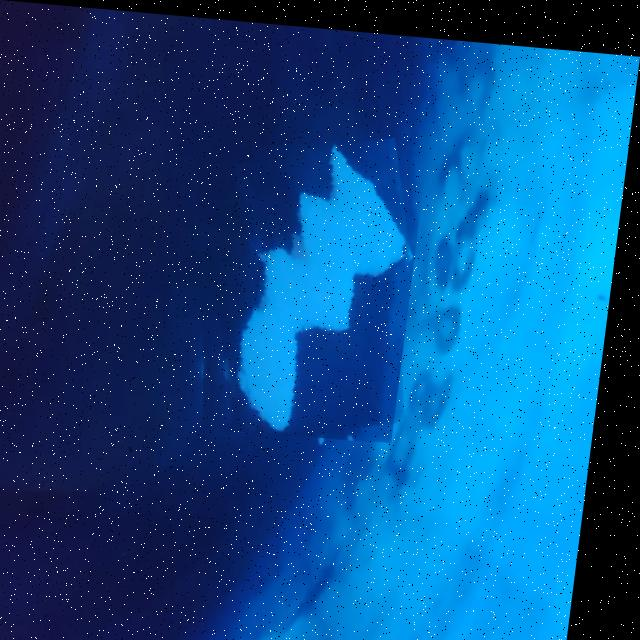thermocoal: (184, 125, 431, 438)
